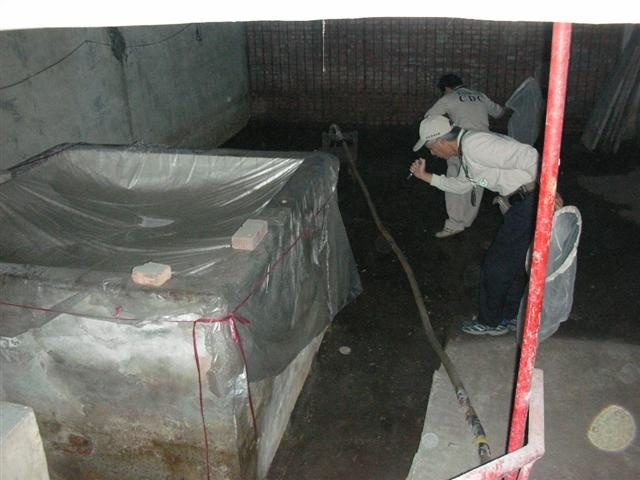plastic_bag: (1, 141, 366, 390)
